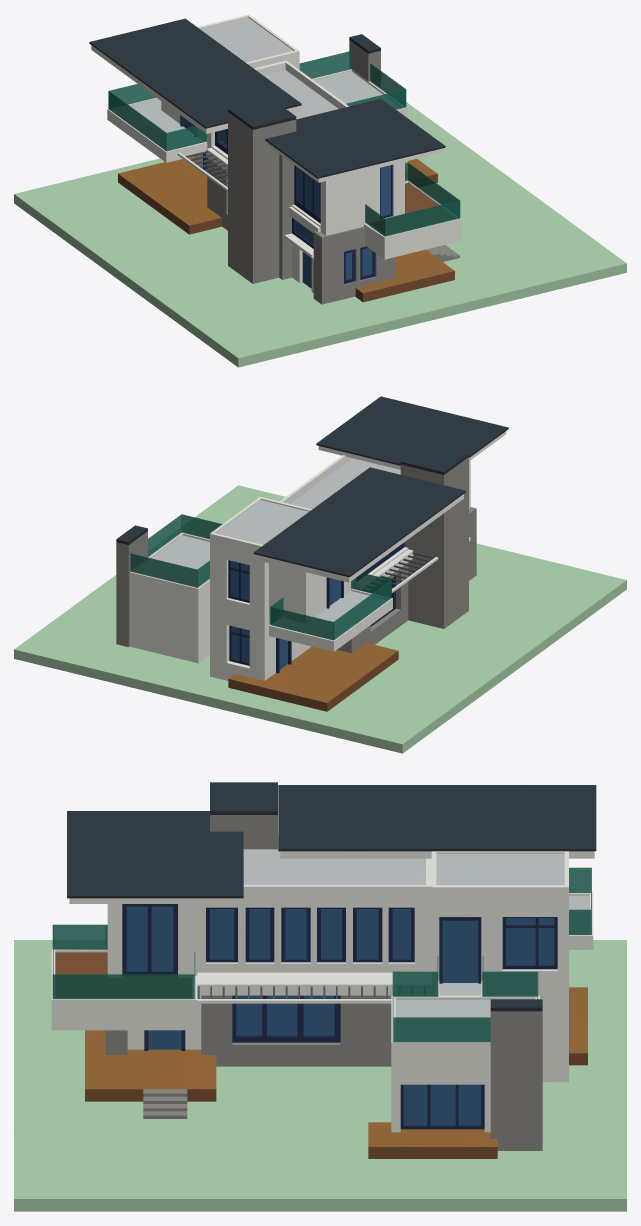
File: modern_house_low_poly.glb
3 views of the same model, one above another, from view 1: azimuth 30°, elevation 25°; view 2: azimuth 150°, elevation 25°; view 3: azimuth 270°, elevation 25° (orthographic). The views are drawn at different scales.
Parts seen in each view (by area): view 1: Cube, Plano, Cubo; view 2: Cube, Plano, Cubo; view 3: Cube, Plano, Cubo.
Boxes of the visible parts, left/top/right/bottom form: Cube: left=89, top=14, right=461, bottom=304; Plano: left=14, top=102, right=626, bottom=367; Cubo: left=108, top=51, right=460, bottom=236; Cube: left=116, top=396, right=508, bottom=711; Plano: left=14, top=485, right=626, bottom=753; Cubo: left=130, top=514, right=391, bottom=640; Cube: left=51, top=782, right=596, bottom=1158; Plano: left=14, top=940, right=626, bottom=1211; Cubo: left=52, top=867, right=591, bottom=1042.
Size of the model in its own units: 15.82 by 6.49 by 15.82.
Materials: 2 (1 with a texture image).
